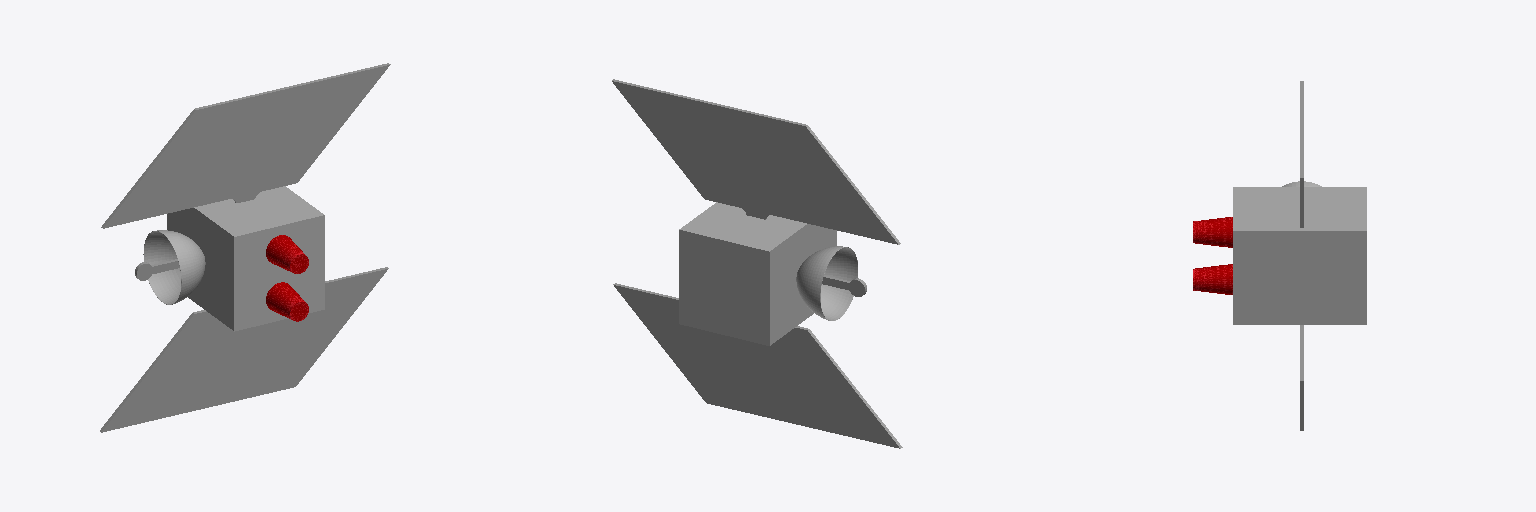
3 renders of one model, left to right at view 1: azimuth 30°, elevation 25°; view 2: azimuth 150°, elevation 25°; view 3: azimuth 270°, elevation 25°, orthographic.
Visible parts, largest first — view 1: Body_1_geo_0, Body_1.001_geo_1, Body_1.002_geo_2, Body_1.004_geo_3, Body_1.003_geo_3; view 2: Body_1_geo_0, Body_1.001_geo_1, Body_1.002_geo_2; view 3: Body_1.001_geo_1, Body_1.003_geo_3, Body_1.004_geo_3, Body_1_geo_0.
Part boxes in pixels (x1,y1,x2,y2): Body_1_geo_0: (100, 63, 390, 432); Body_1.001_geo_1: (167, 186, 324, 331); Body_1.002_geo_2: (143, 230, 205, 304); Body_1.004_geo_3: (266, 282, 308, 321); Body_1.003_geo_3: (266, 235, 308, 273); Body_1_geo_0: (612, 79, 902, 448); Body_1.001_geo_1: (679, 202, 836, 345); Body_1.002_geo_2: (796, 246, 857, 320); Body_1.001_geo_1: (1233, 187, 1366, 324); Body_1.003_geo_3: (1193, 217, 1232, 247); Body_1.004_geo_3: (1193, 264, 1232, 294); Body_1_geo_0: (1300, 81, 1303, 430).
Bounding box in the file's own units: 1.01 × 1 × 0.5271.
Materials: 3 (1 with a texture image).